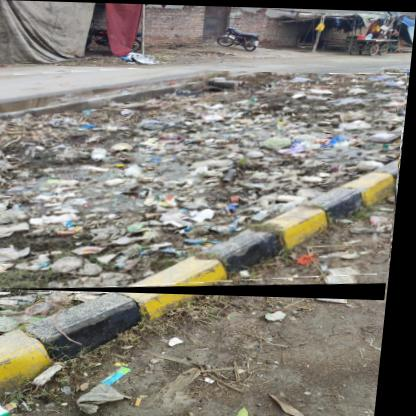Garbage: (1, 65, 411, 300)
